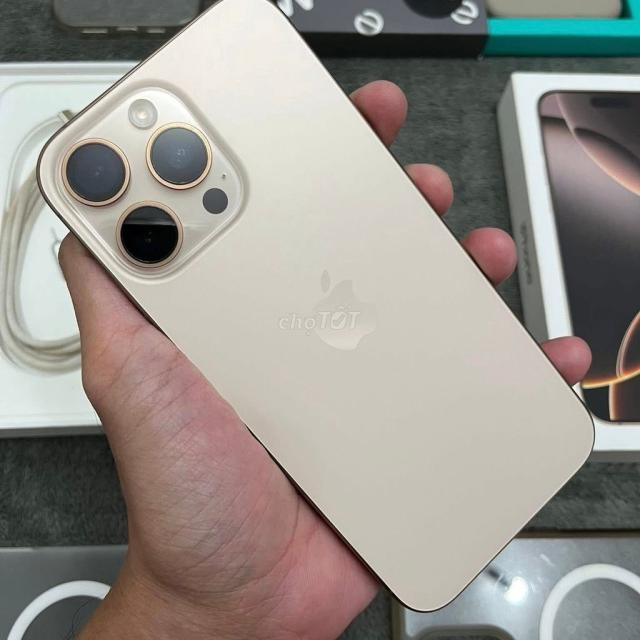gen_16: (38, 7, 596, 607)
